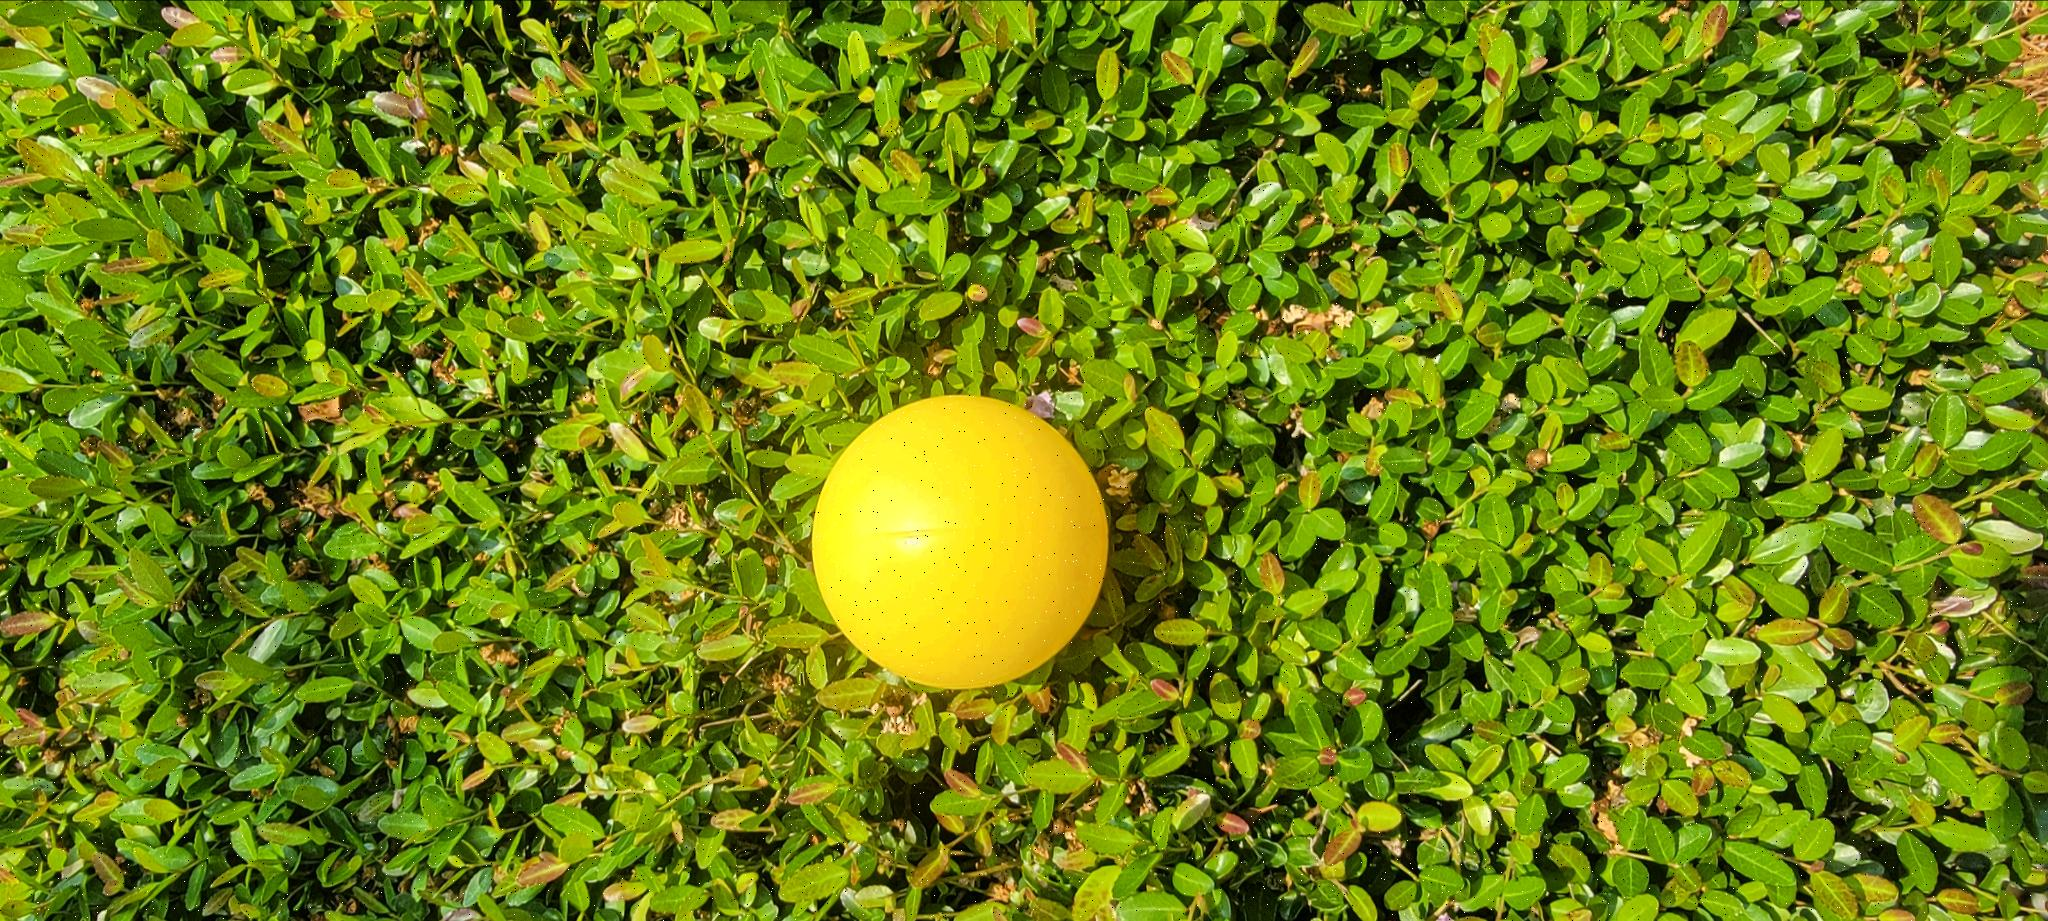Yellow-Ball: (235, 814, 528, 921)
